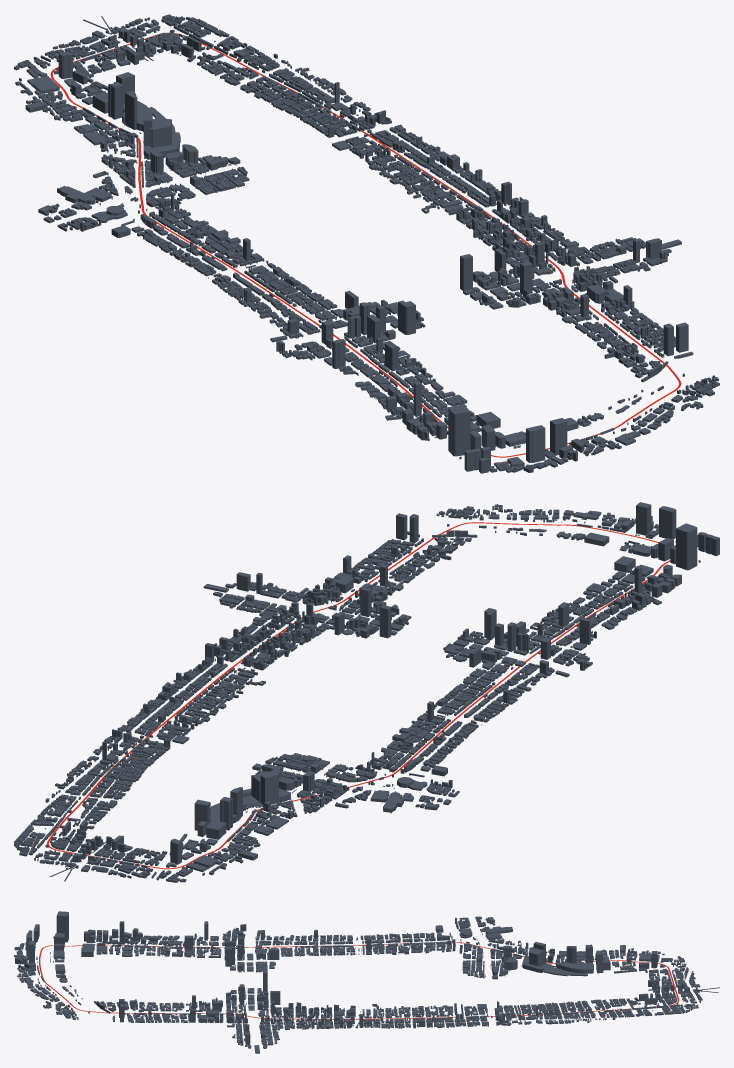
File: loop_route_massing.obj
3 renders of one model, top to bottom at view 1: azimuth 30°, elevation 25°; view 2: azimuth 150°, elevation 25°; view 3: azimuth 270°, elevation 25°, orthographic. The views are drawn at different scales.
Parts seen in each view (by area): view 1: Buildings, RoutePreview; view 2: Buildings, RoutePreview; view 3: Buildings, RoutePreview.
Boxes of the visible parts, box(x1,y1,x2,y2) form: Buildings: box(14, 14, 719, 473); RoutePreview: box(50, 33, 681, 457); Buildings: box(14, 502, 719, 882); RoutePreview: box(47, 522, 670, 869); Buildings: box(14, 911, 719, 1053); RoutePreview: box(39, 942, 679, 1019).
Size of the model in its own units: 2228 by 199 by 4895.
